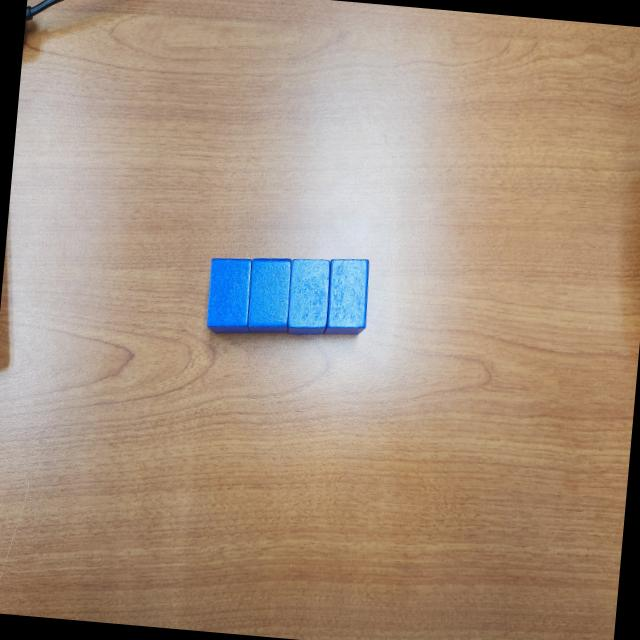blue: (284, 256, 334, 338), (244, 254, 294, 336), (322, 256, 372, 338), (205, 257, 253, 336)
